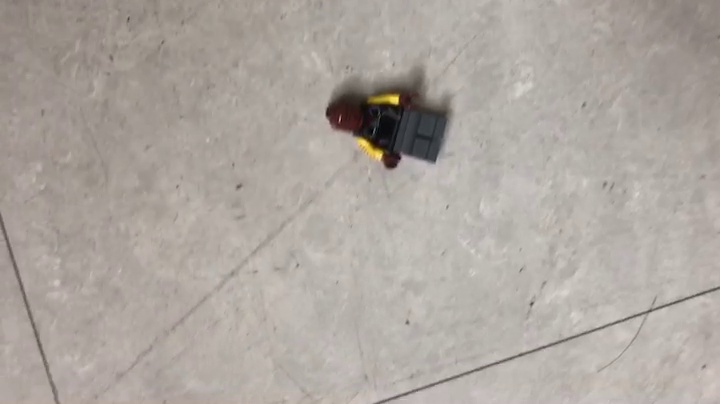people: (325, 88, 449, 170)
